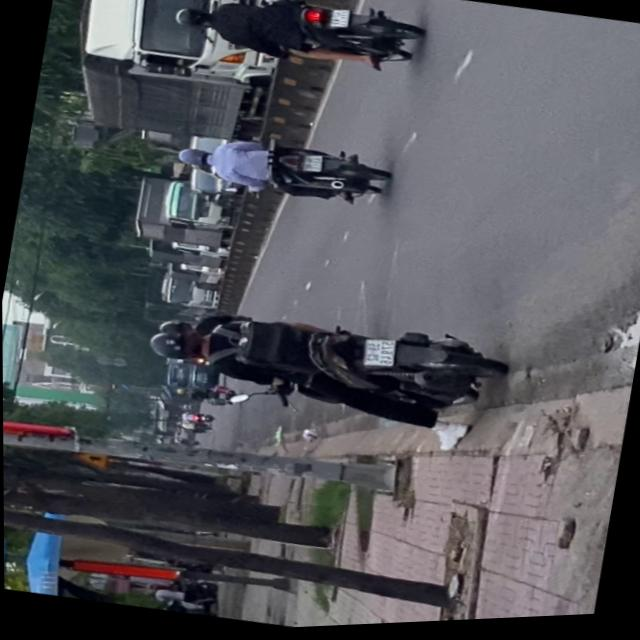helmet: (142, 324, 205, 367), (171, 5, 210, 33), (172, 145, 210, 171), (153, 316, 191, 341)
licenseplate: (135, 282, 508, 454), (165, 0, 427, 89), (170, 120, 391, 220)
nohelmet: (359, 338, 393, 372), (325, 10, 346, 32), (299, 155, 320, 175)
